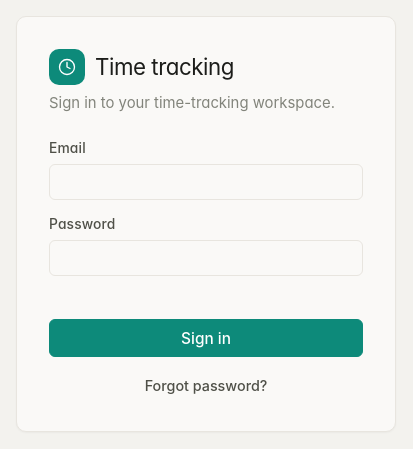
Scenario: Login › forgot password view — sends reset link
Click the button "Forgot password?" at (206, 385), box [134,371,278,399]
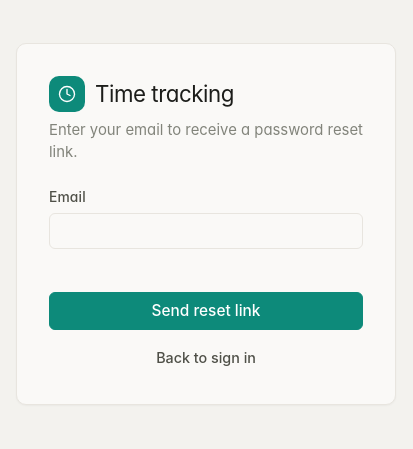
Submit the form, box [49,187,363,330]
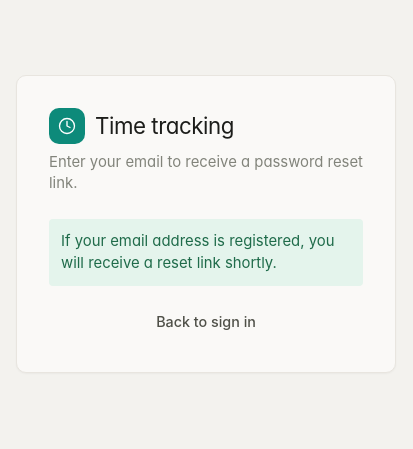
Check: the text "If your email address is registered" is shown, box [61,232,334,272]
